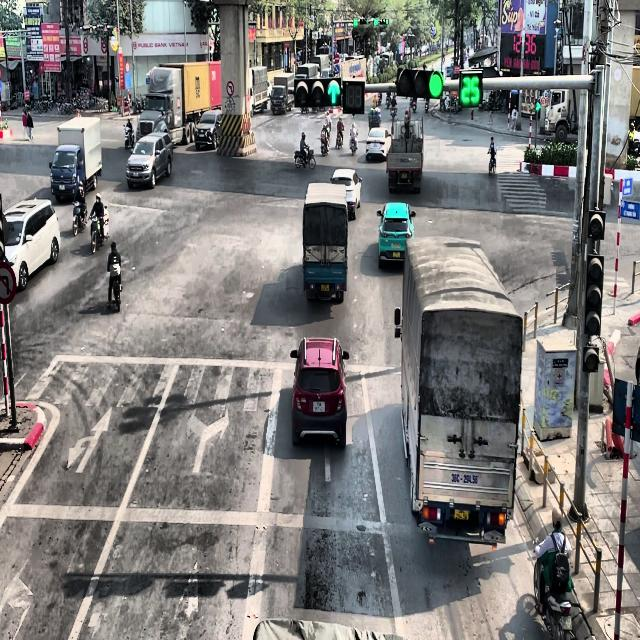lisence_plate: (451, 472, 481, 488), (452, 505, 471, 523), (312, 398, 326, 414), (318, 282, 331, 293), (398, 156, 410, 164), (392, 250, 402, 258), (401, 172, 409, 181), (372, 142, 378, 148)
